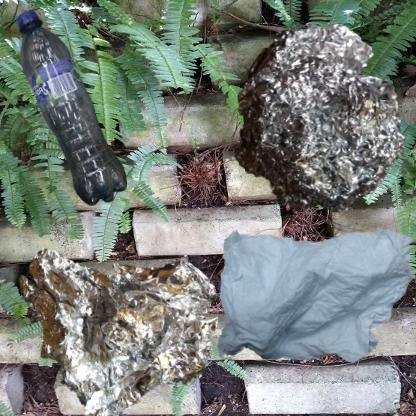aluminio: (10, 213, 246, 416), (213, 10, 416, 236)
botella: (10, 10, 133, 209)
papel: (213, 213, 416, 376)
